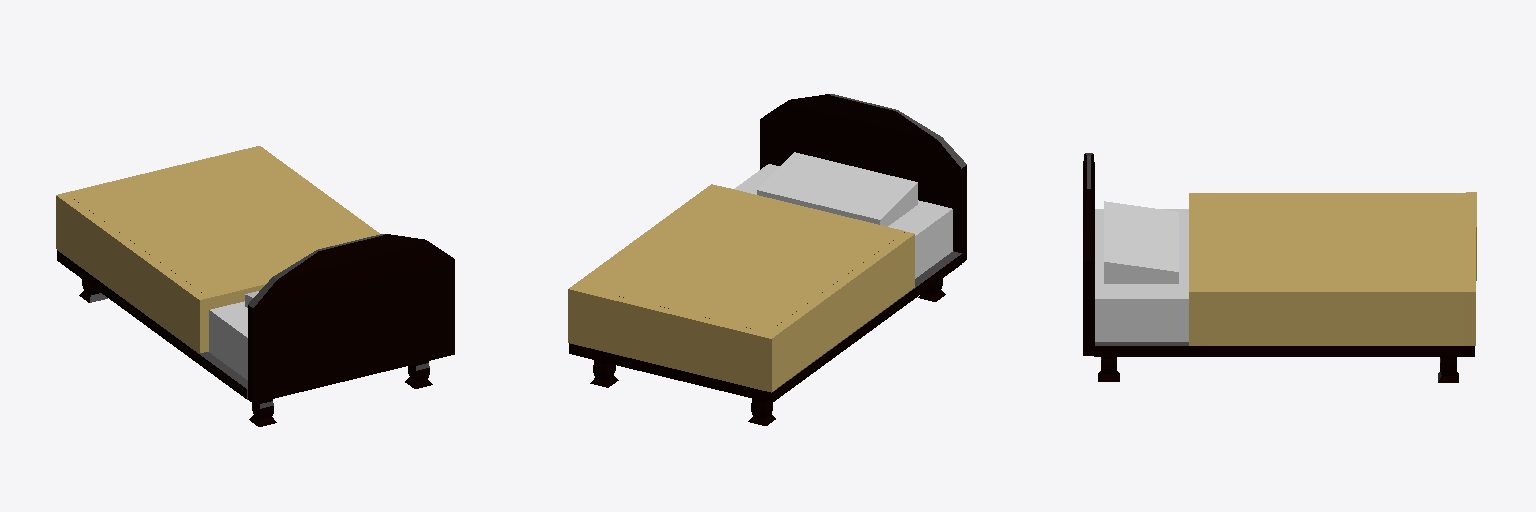
File: bed.obj
3 views of the same model, side by side, from view 1: azimuth 30°, elevation 25°; view 2: azimuth 150°, elevation 25°; view 3: azimuth 270°, elevation 25° (orthographic).
Visible parts, largest first — view 1: Cube; view 2: Cube; view 3: Cube.
Boxes of the visible parts, x1=… form: Cube: x1=56, y1=146, x2=454, y2=426; Cube: x1=568, y1=94, x2=966, y2=425; Cube: x1=1083, y1=153, x2=1476, y2=382.
Bounding box in the file's own units: 4.33 × 3.4 × 7.24.